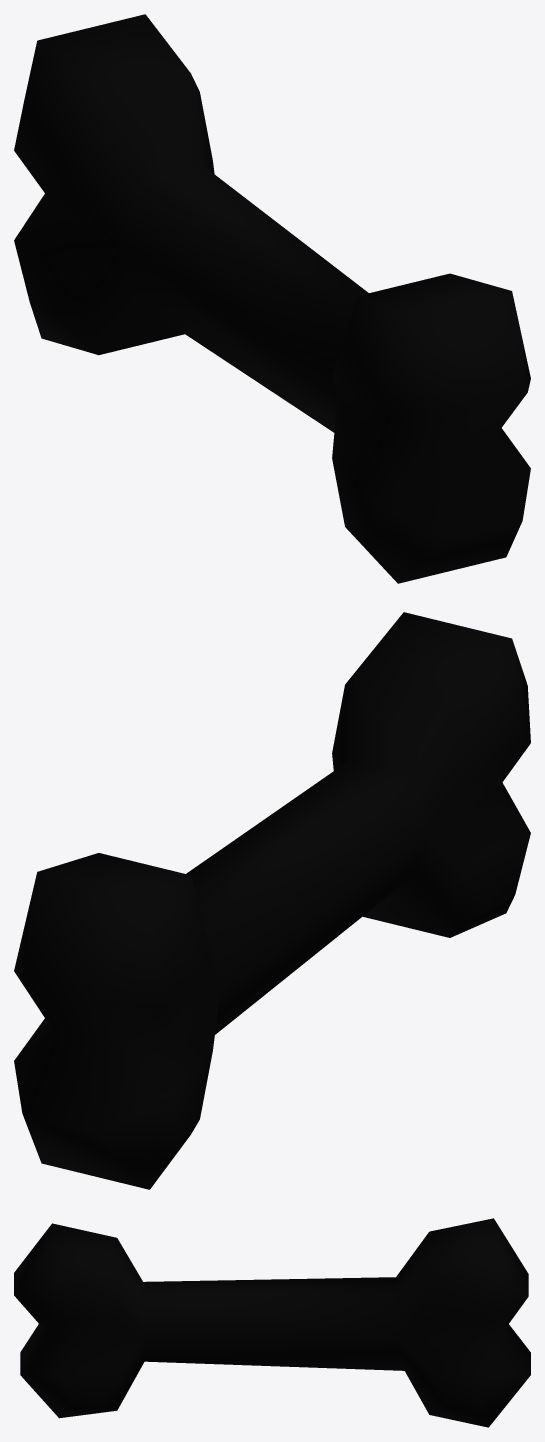
Rendered from Bone.fbx.
The picture shows the model from 3 angles, top to bottom: view 1: azimuth 30°, elevation 25°; view 2: azimuth 150°, elevation 25°; view 3: azimuth 270°, elevation 25°; orthographic projection. The views are drawn at different scales.
Parts seen in each view (by area): view 1: Circle.052; view 2: Circle.052; view 3: Circle.052.
Boxes of the visible parts, x1,y1,x2,y2 form: Circle.052: (14,14,530,583); Circle.052: (14,612,530,1189); Circle.052: (14,1218,530,1427).
Bounding box in the file's own units: 1.04 × 1.9 × 5.
